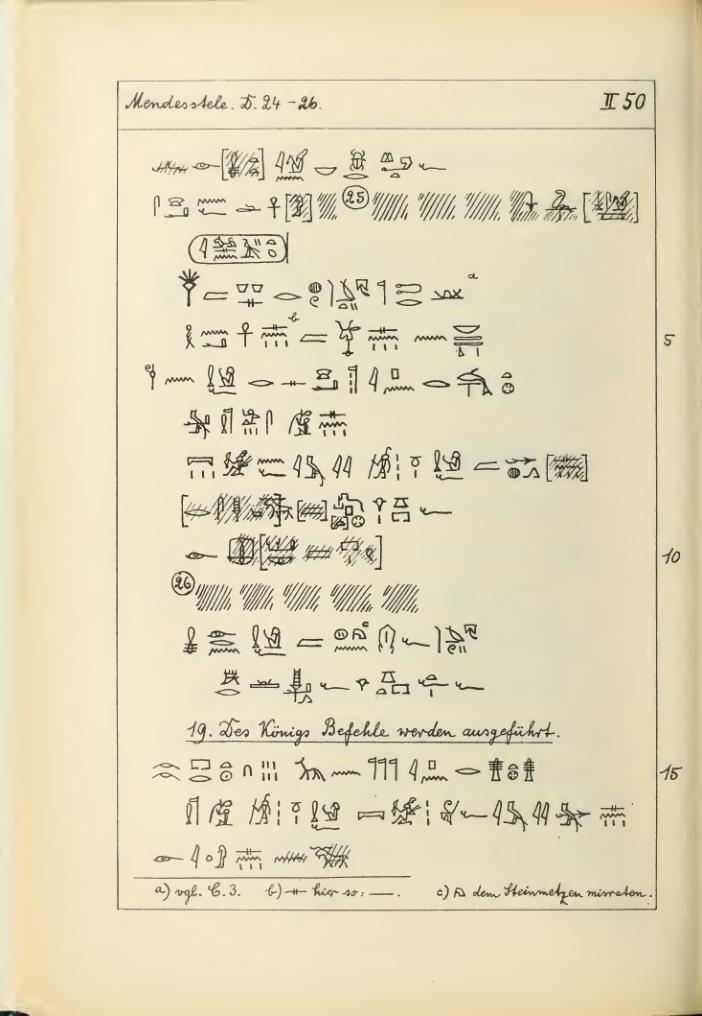circle: (186, 225, 305, 270)
